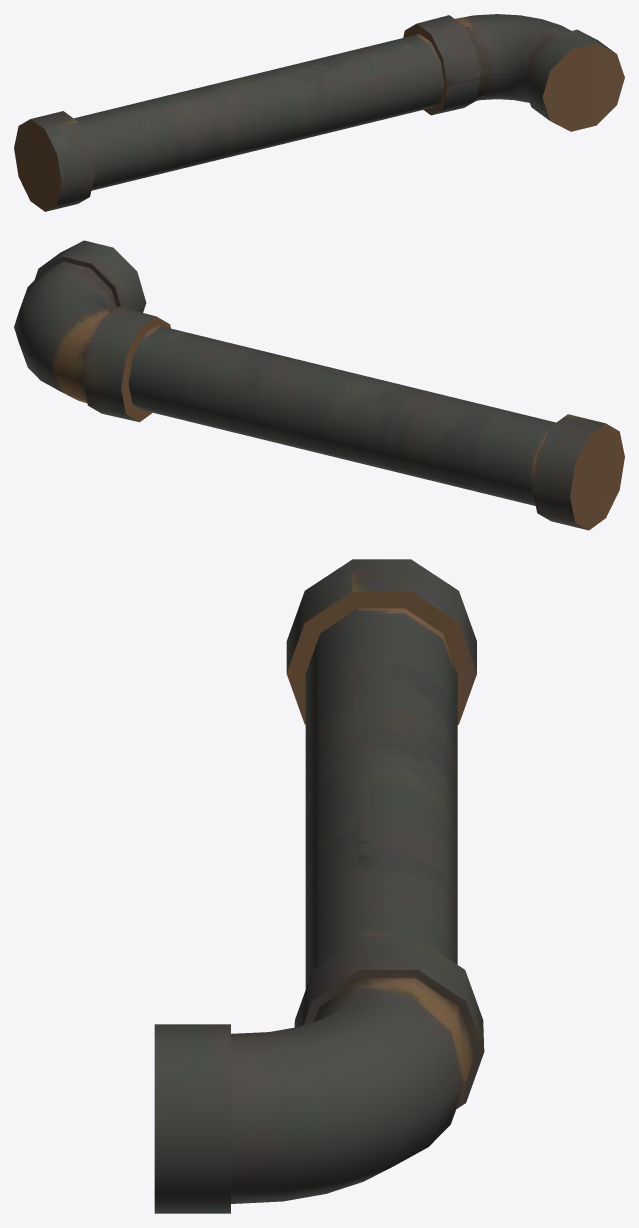
3 views of the same model, one above another, from view 1: azimuth 30°, elevation 25°; view 2: azimuth 150°, elevation 25°; view 3: azimuth 270°, elevation 25° (orthographic). The views are drawn at different scales.
Parts seen in each view (by area): view 1: body0_model0_lod0_mesh0; view 2: body0_model0_lod0_mesh0; view 3: body0_model0_lod0_mesh0.
Part boxes in pixels (x1,y1,x2,y2): body0_model0_lod0_mesh0: (14, 14, 624, 211); body0_model0_lod0_mesh0: (14, 240, 624, 530); body0_model0_lod0_mesh0: (154, 559, 484, 1213).
Bounding box in the file's own units: 64.29 × 9.51 × 17.3.
Materials: 1 (1 with a texture image).
